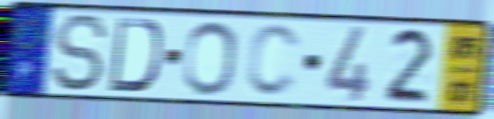2: (384, 25, 438, 109)
4: (323, 23, 373, 106)
C: (243, 22, 304, 101)
D: (106, 15, 164, 95)
O: (181, 19, 239, 98)
S: (49, 12, 110, 95)
